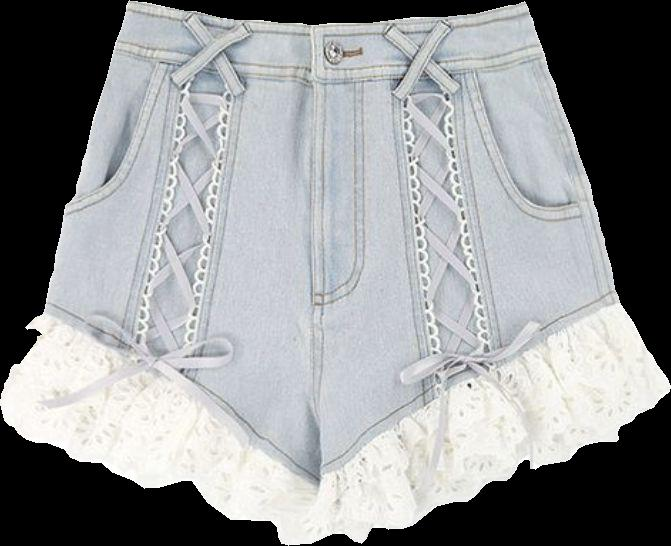Hemline: (315, 383, 670, 545), (0, 396, 315, 545)
Pantleg: (312, 2, 670, 543), (1, 1, 318, 544)
Waistline: (316, 298, 618, 478), (42, 308, 315, 486), (111, 46, 544, 82), (130, 0, 527, 30)
